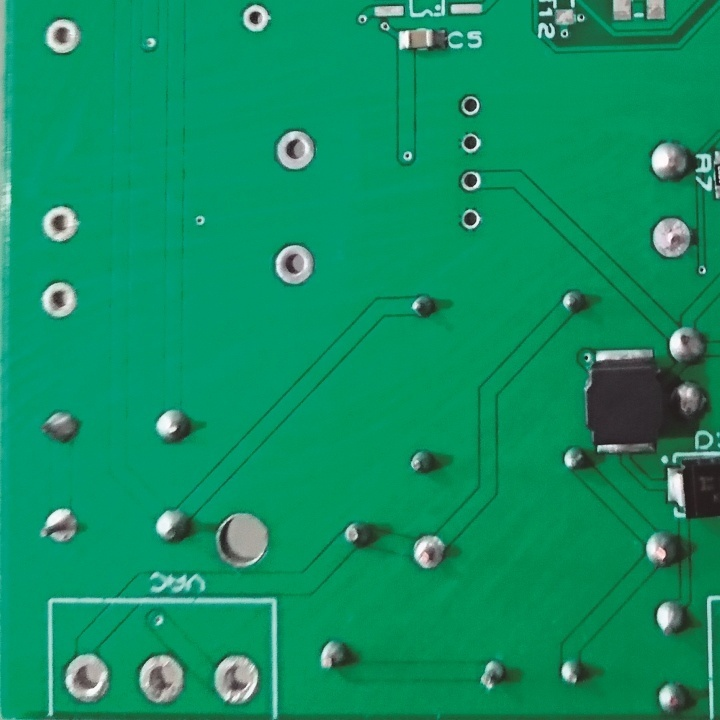F: (210, 650, 267, 708), (132, 652, 187, 704), (61, 652, 112, 703), (271, 240, 319, 291), (270, 126, 318, 175), (648, 214, 693, 264), (36, 503, 81, 552), (40, 16, 85, 59), (410, 529, 452, 573), (39, 203, 81, 246), (39, 280, 82, 322), (237, 1, 277, 38), (456, 206, 485, 231), (457, 129, 484, 155), (455, 94, 484, 118), (457, 170, 486, 193)
